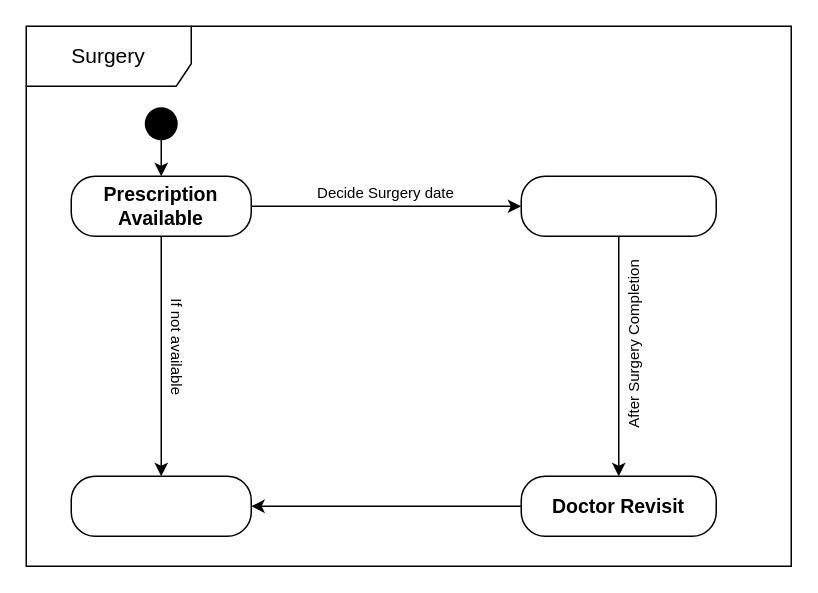
Image size: 818x593. Some labels were removed from this diagram. The centre of each missing label's shape, as x and y in pixels:
"Return" belongs at point 160,505.
"Surgery Scheduled" belongs at point 618,205.
